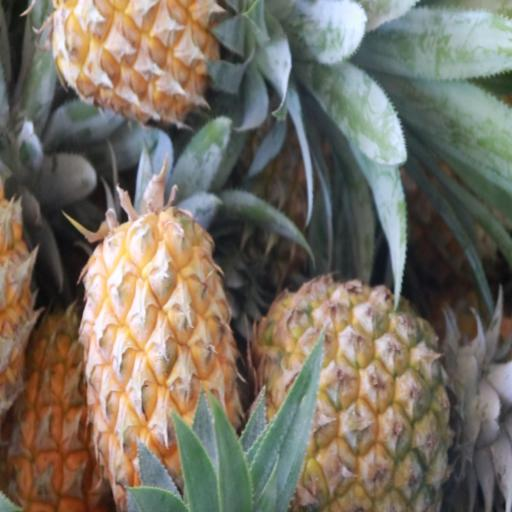Pineapple - v8 v1: (258, 278, 468, 512), (86, 204, 241, 512), (50, 0, 285, 128)
